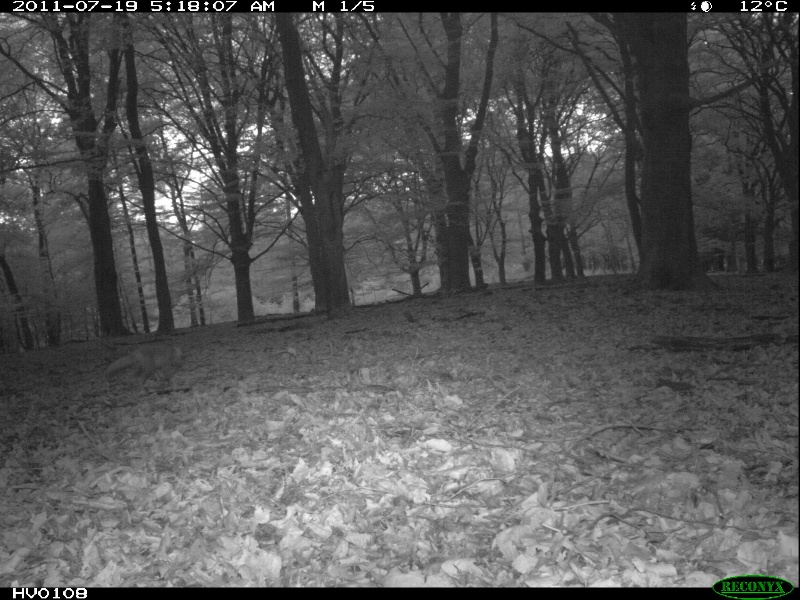fox: (109, 341, 189, 385)
